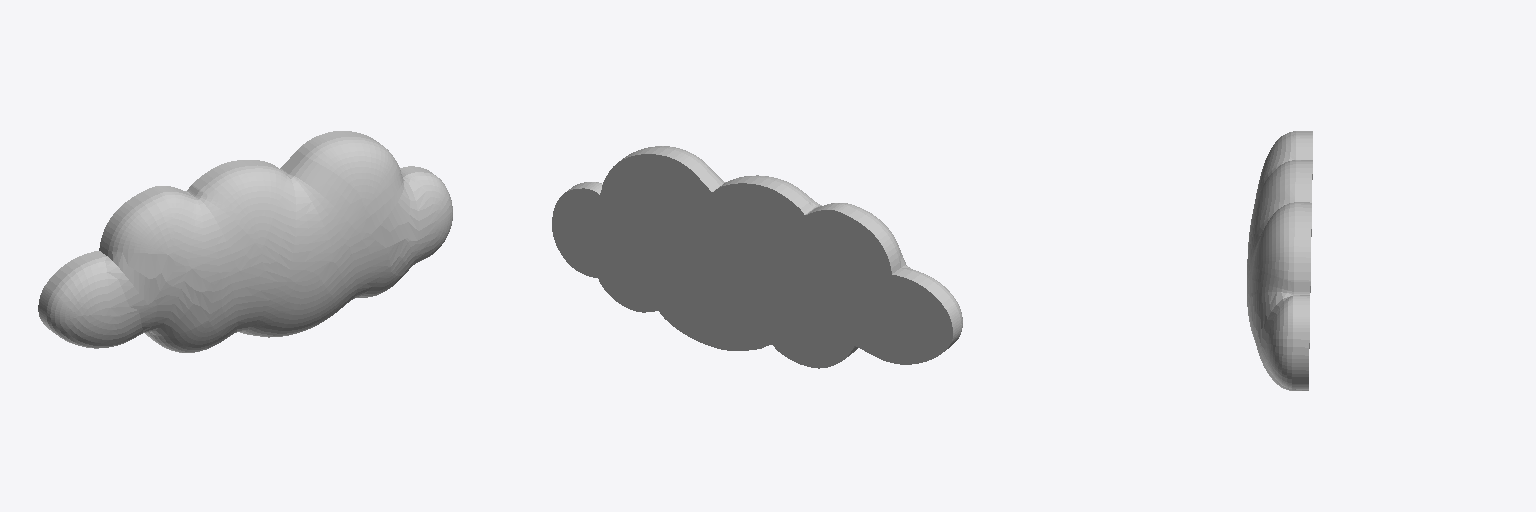
Rendered from cloud.obj.
3 views of the same model, side by side, from view 1: azimuth 30°, elevation 25°; view 2: azimuth 150°, elevation 25°; view 3: azimuth 270°, elevation 25° (orthographic).
Parts seen in each view (by area): view 1: Object; view 2: Object; view 3: Object.
Boxes of the visible parts, x1,y1,x2,y2 form: Object: [38, 131, 452, 352]; Object: [552, 146, 962, 368]; Object: [1247, 131, 1312, 390].
Bounding box in the file's own units: 1.17 × 0.504 × 0.1678.